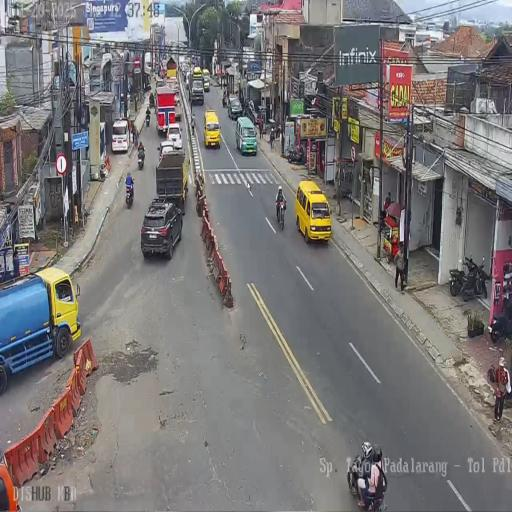car: (140, 197, 184, 259), (294, 180, 329, 242), (235, 116, 257, 156), (111, 118, 130, 154), (203, 109, 220, 149), (166, 122, 182, 150), (227, 96, 243, 120), (202, 68, 210, 92), (179, 60, 187, 77), (155, 77, 165, 88), (186, 71, 191, 92)
motorcycle: (450, 253, 488, 301), (489, 293, 512, 344), (286, 144, 304, 166), (125, 181, 134, 208), (137, 145, 145, 168), (273, 123, 281, 139), (132, 125, 138, 146), (145, 110, 151, 126), (222, 94, 227, 108), (149, 96, 154, 109)
truck: (2, 268, 82, 395), (154, 84, 176, 135), (189, 66, 205, 106), (166, 58, 177, 80), (144, 52, 152, 75), (174, 97, 181, 120)
